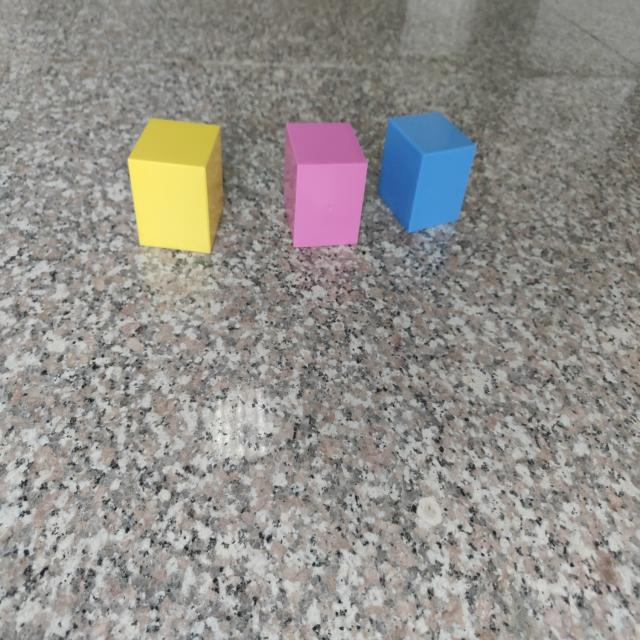blue: (379, 113, 476, 234)
pink: (284, 123, 367, 251)
yellow: (127, 119, 222, 256)
